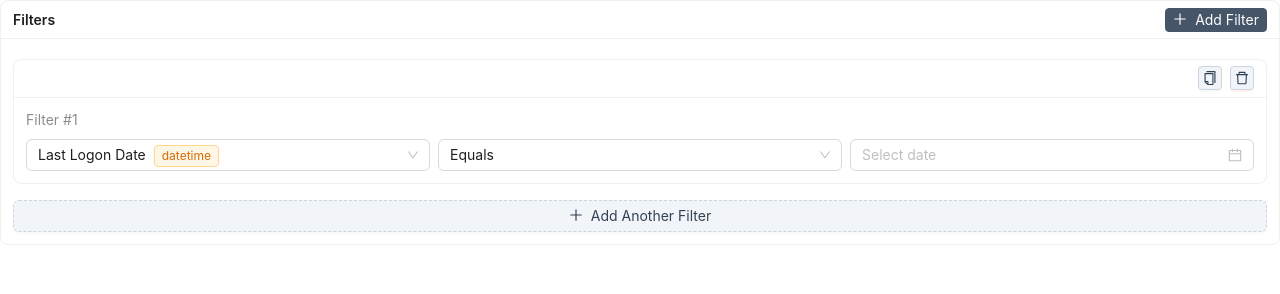
it: FilterBuilder › should show appropriate operators for different data types
// Click on operator selector
Press the mouse on the dropdown at (472, 154), box [450,146,494,162]
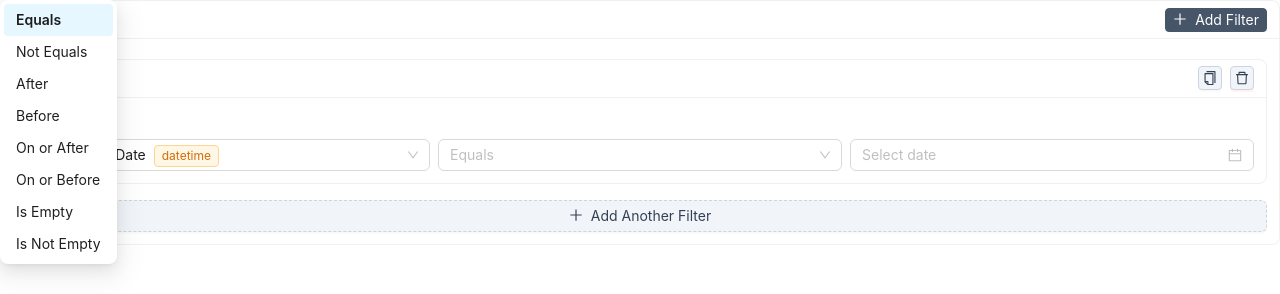
Expected: the text "After" is shown, [16,75,48,92]
Expected: the text "Before" is shown, [16,107,60,124]
Expected: the text "On or After" is shown, [16,137,100,159]
